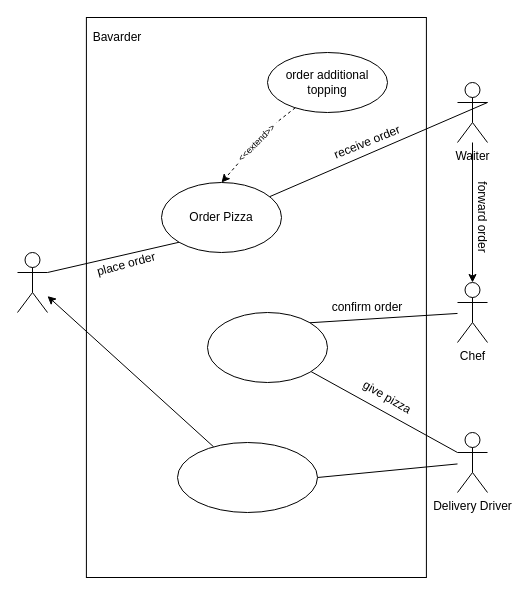
This 529x595 diagram has some shape labels left out. Each missing label, with the box of its shape:
Client: (16, 252, 48, 312)
deliver pizza: (176, 442, 318, 512)
make pizza: (206, 312, 328, 382)
